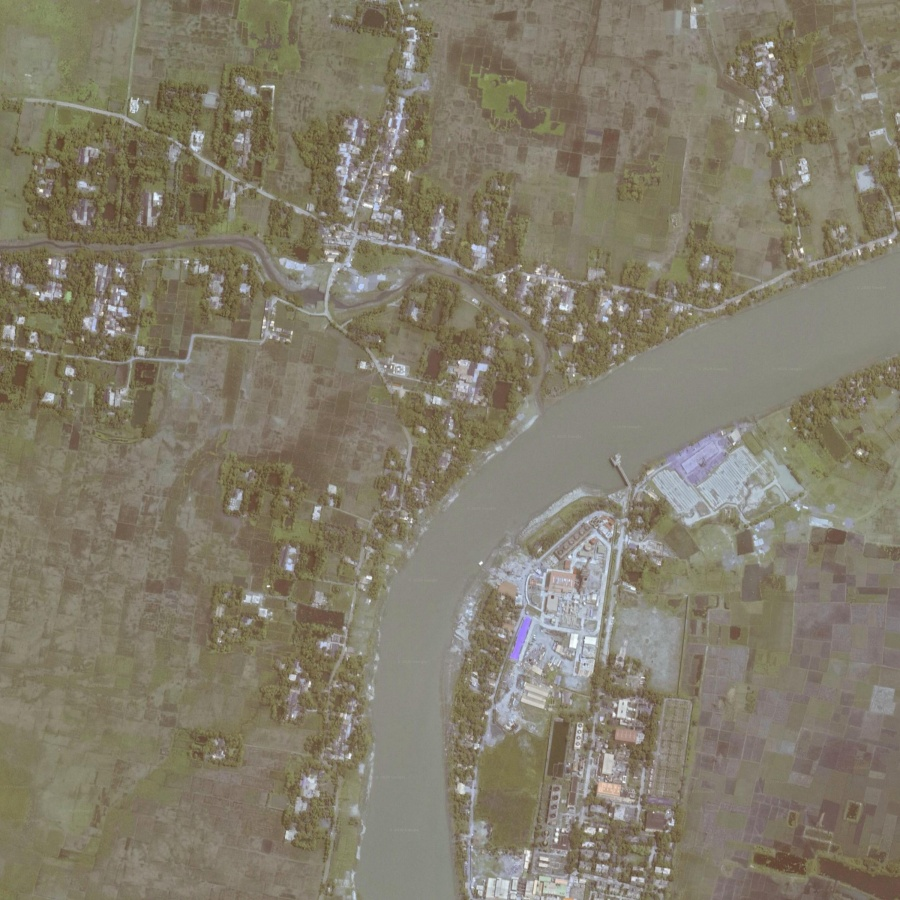PowerPlant: (537, 522, 608, 677)
